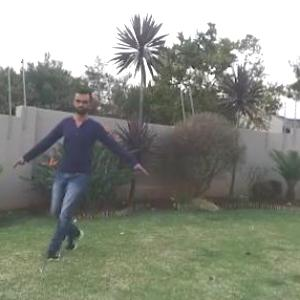land: (21, 88, 151, 248)
